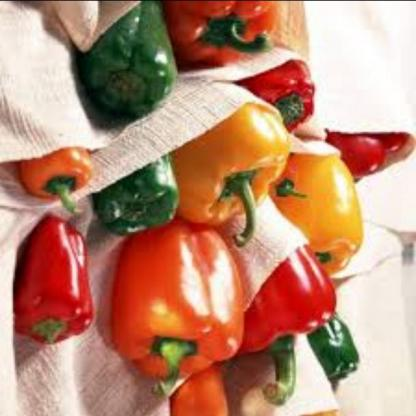bell pepper: (107, 214, 250, 389), (219, 242, 342, 386), (172, 87, 292, 228), (268, 137, 372, 280), (77, 0, 188, 122), (15, 214, 99, 342), (167, 0, 285, 77), (101, 140, 188, 234), (24, 132, 96, 221), (244, 54, 322, 132), (296, 310, 370, 392)
